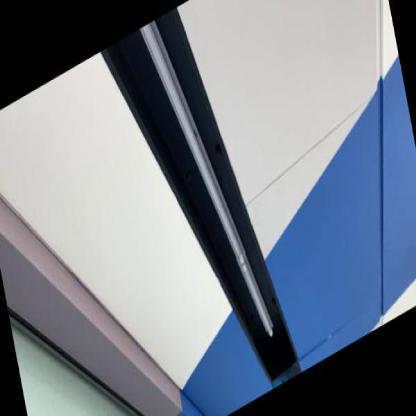light_off: (134, 0, 287, 385)
